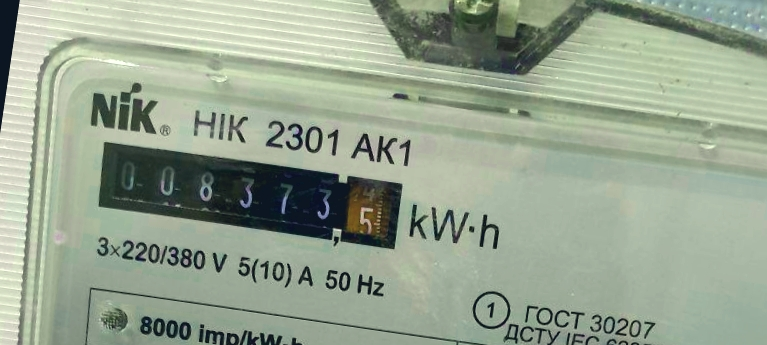0: (114, 156, 139, 194), (154, 160, 178, 199)
3: (309, 183, 336, 223), (232, 172, 258, 212)
4: (357, 182, 378, 204)
5: (354, 203, 377, 235)
7: (271, 177, 295, 218)
8: (193, 166, 219, 205)
screen: (86, 131, 412, 264)
